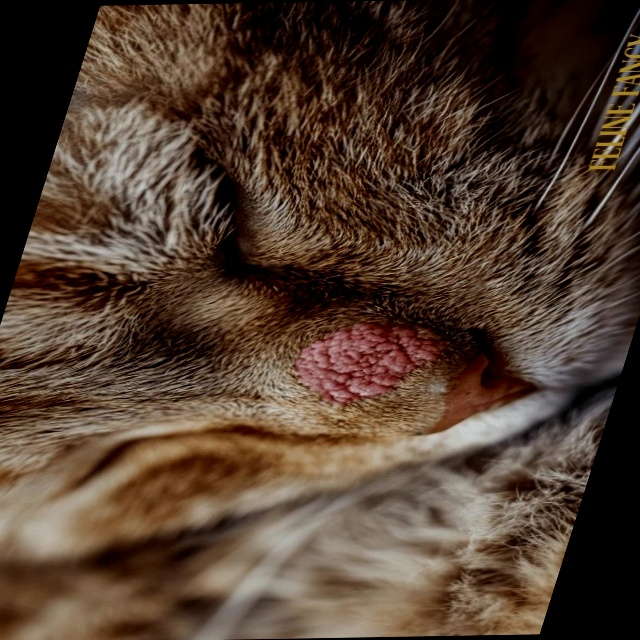lump_and_bump: (281, 323, 452, 402)
